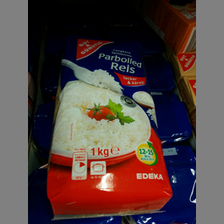rice: (48, 33, 173, 221)
